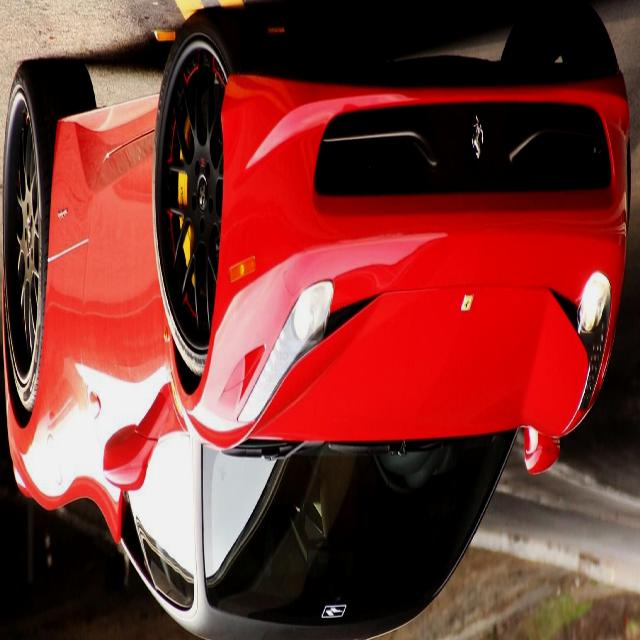red: (1, 45, 639, 640)
